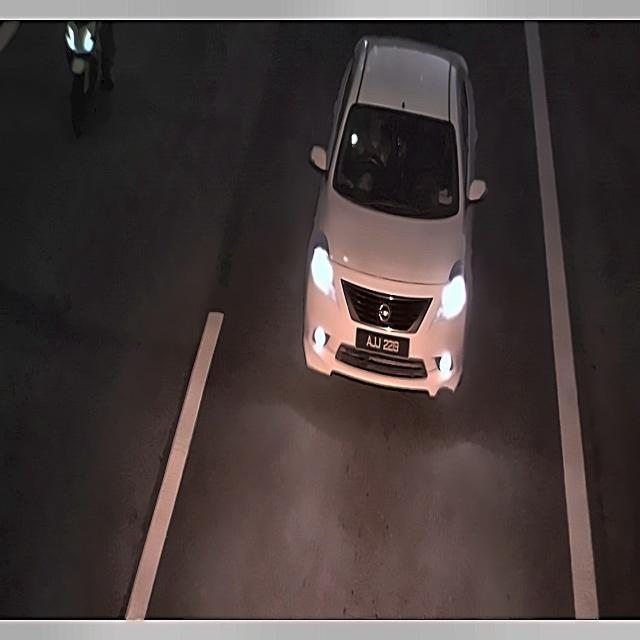car: (354, 322, 413, 361)
